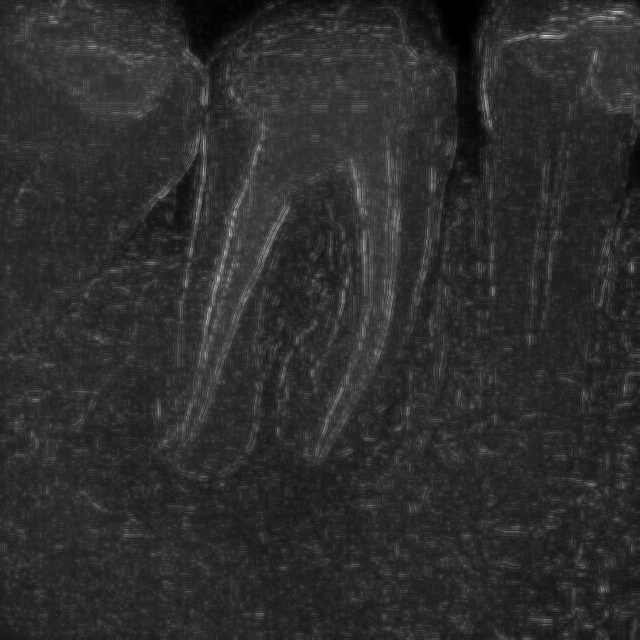Class 0- No endodontic treatment: (153, 8, 447, 510)
cavity: (443, 34, 640, 588)
